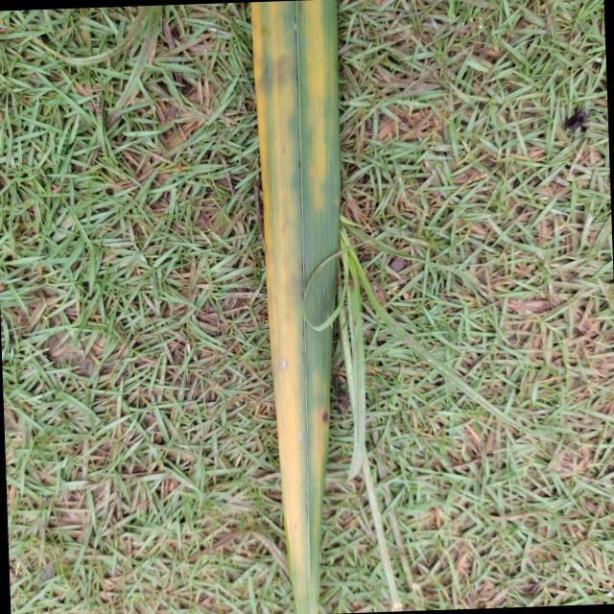Megnesium: (251, 0, 344, 614)
